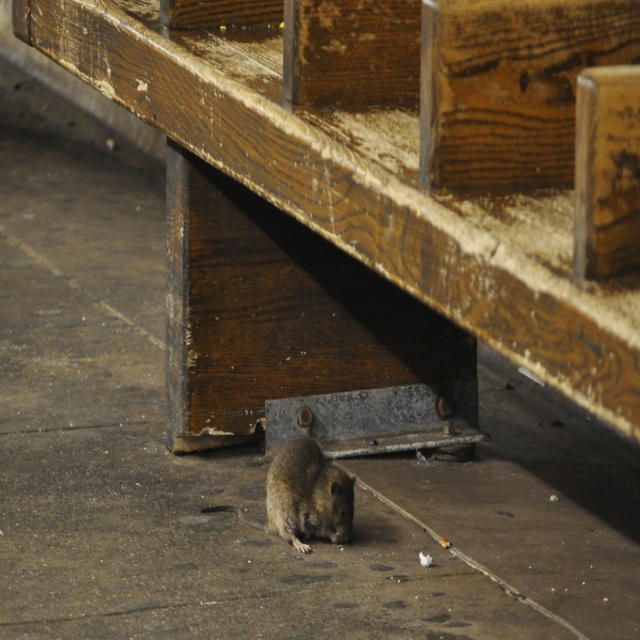Mouse: (264, 429, 368, 553)
